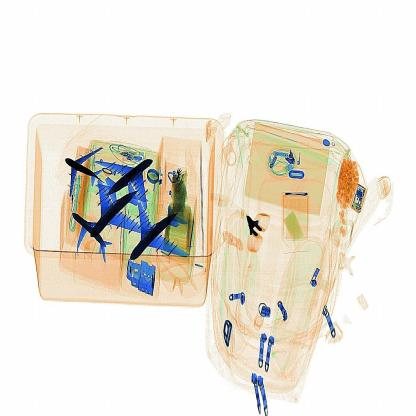gun: (235, 200, 273, 260)
